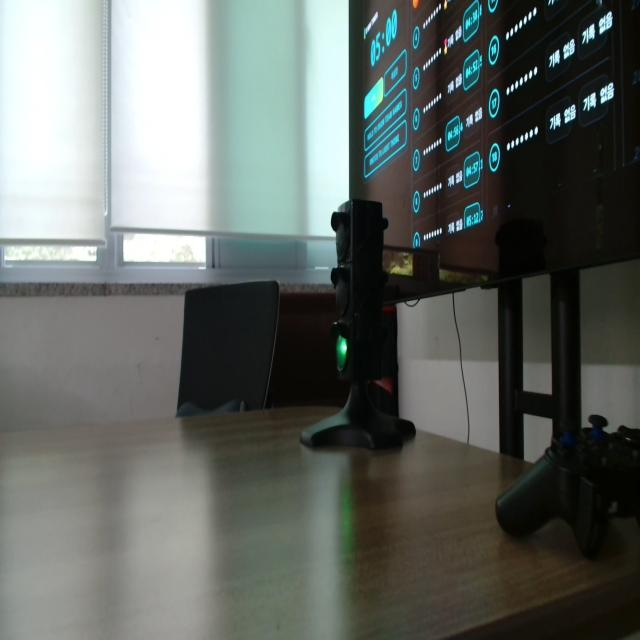green_light: (337, 336, 348, 371)
